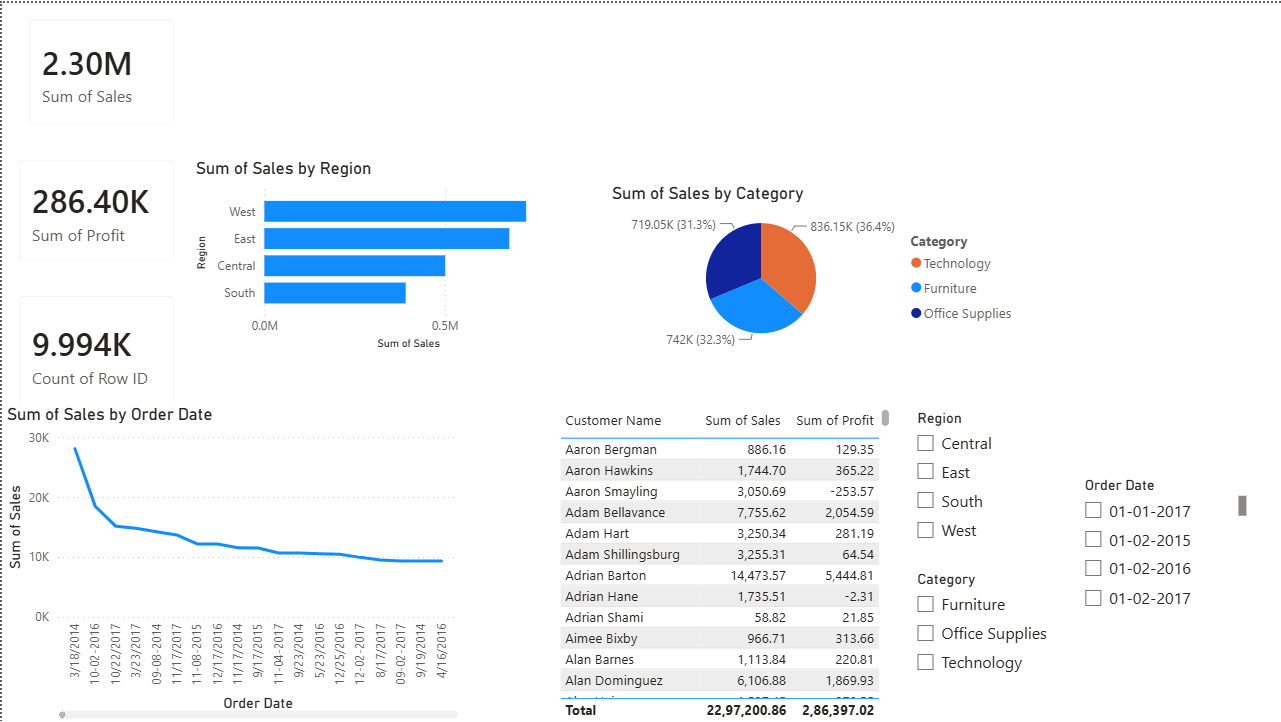

The page's visual inventory and layout, read from the dashboard file:
{"tool":"powerbi","page":{"name":"Page 1","canvas":[1280,720],"ordinal":0},"visuals":[{"type":"cardVisual","fields":{"Data":["Sum(Sample - Superstore.Sales)"]},"box":[9.6,0,179.8,140],"z":0},{"type":"cardVisual","fields":{"Data":["Sum(Sample - Superstore.Profit)"]},"box":[0,140,189.4,135.8],"z":1},{"type":"cardVisual","fields":{"Data":["CountNonNull(Sample - Superstore.Row ID)"]},"box":[0,275.8,189.4,149.6],"z":2},{"type":"clusteredBarChart","fields":{"Y":["Sum(Sample - Superstore.Sales)"],"Category":["Sample - Superstore.Region"]},"box":[189.4,155.1,381.5,196.2],"z":3},{"type":"pieChart","fields":{"Category":["Sample - Superstore.Category"],"Y":["Sum(Sample - Superstore.Sales)"]},"box":[605.1,179.8,418.5,171.5],"z":4},{"type":"lineChart","fields":{"Category":["Sample - Superstore.Order Date"],"Y":["Sum(Sample - Superstore.Sales)"]},"box":[0,400.7,461.1,319.7],"z":5},{"type":"tableEx","fields":{"Values":["Sample - Superstore.Customer Name","Sum(Sample - Superstore.Sales)","Sum(Sample - Superstore.Profit)"]},"box":[553,400.7,340.3,319.7],"z":6},{"type":"slicer","fields":{"Values":["Sample - Superstore.Region"]},"box":[902.9,400.7,167.4,160.5],"z":7},{"type":"slicer","fields":{"Values":["Sample - Superstore.Category"]},"box":[903,562,167,158],"z":8},{"type":"slicer","fields":{"Values":["Sample - Superstore.Order Date"]},"box":[1070.3,469.3,179.8,149.6],"z":9}]}

Visuals, with their boxes in screenshot pixels (x1, y1, x2, y2), scaled from the page's 1280x720 canvas onto the 1281x722 screenshot:
cardVisual - Sum(Sample - Superstore.Sales): 10:0:190:140
cardVisual - Sum(Sample - Superstore.Profit): 0:140:190:277
cardVisual - CountNonNull(Sample - Superstore.Row ID): 0:277:190:427
clusteredBarChart - Sum(Sample - Superstore.Sales) x Sample - Superstore.Region: 190:156:571:352
pieChart - Sample - Superstore.Category x Sum(Sample - Superstore.Sales): 606:180:1024:352
lineChart - Sample - Superstore.Order Date x Sum(Sample - Superstore.Sales): 0:402:461:721
tableEx - Sample - Superstore.Customer Name x Sum(Sample - Superstore.Sales): 553:402:894:721
slicer - Sample - Superstore.Region: 904:402:1071:563
slicer - Sample - Superstore.Category: 904:564:1071:721
slicer - Sample - Superstore.Order Date: 1071:471:1251:621
